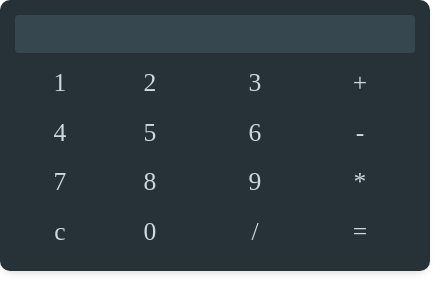
Test: Calculator › Simple operations › should work on multiplication
Click the button "3".
click(255, 83)  # box [210,58,300,108]
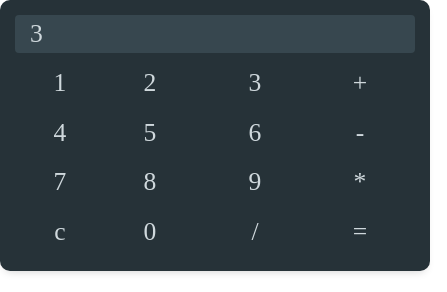
Now the text with class "output" reads "3", box [30,19,43,48]
Click the button "*".
click(360, 182)  # box [315,157,405,207]
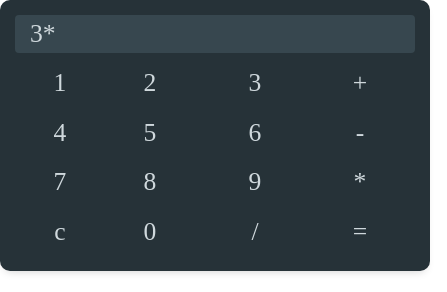
Now the text with class "output" reads "3*", box [30,19,56,48]
Click the button "5".
click(150, 132)  # box [105,108,195,157]
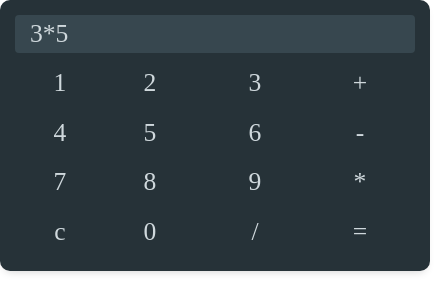
Now the text with class "output" reads "3*5", box [30,19,68,48]
Click the button "=".
click(360, 231)  # box [315,207,405,256]
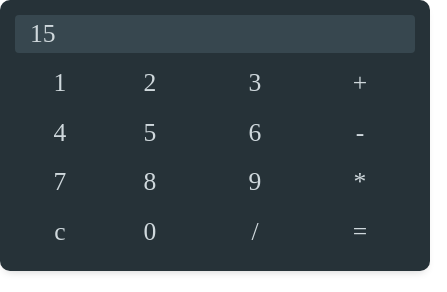
Now the text with class "output" reads "15", box [30,19,56,48]
